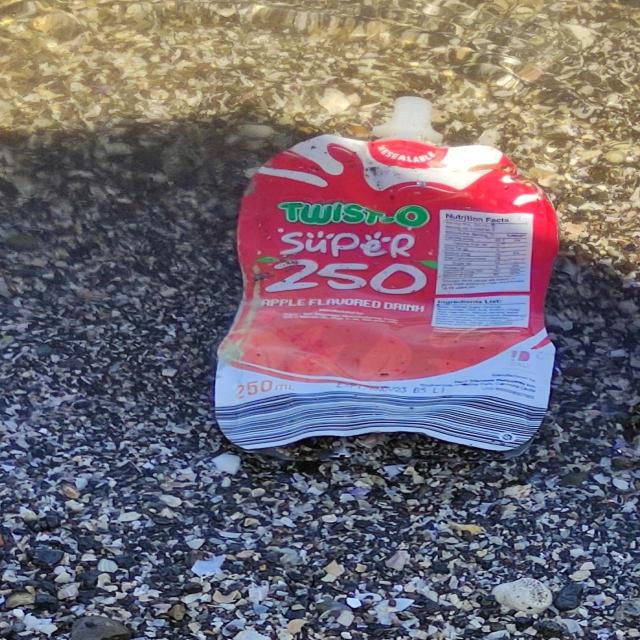plastic_waste: (218, 96, 572, 452)
